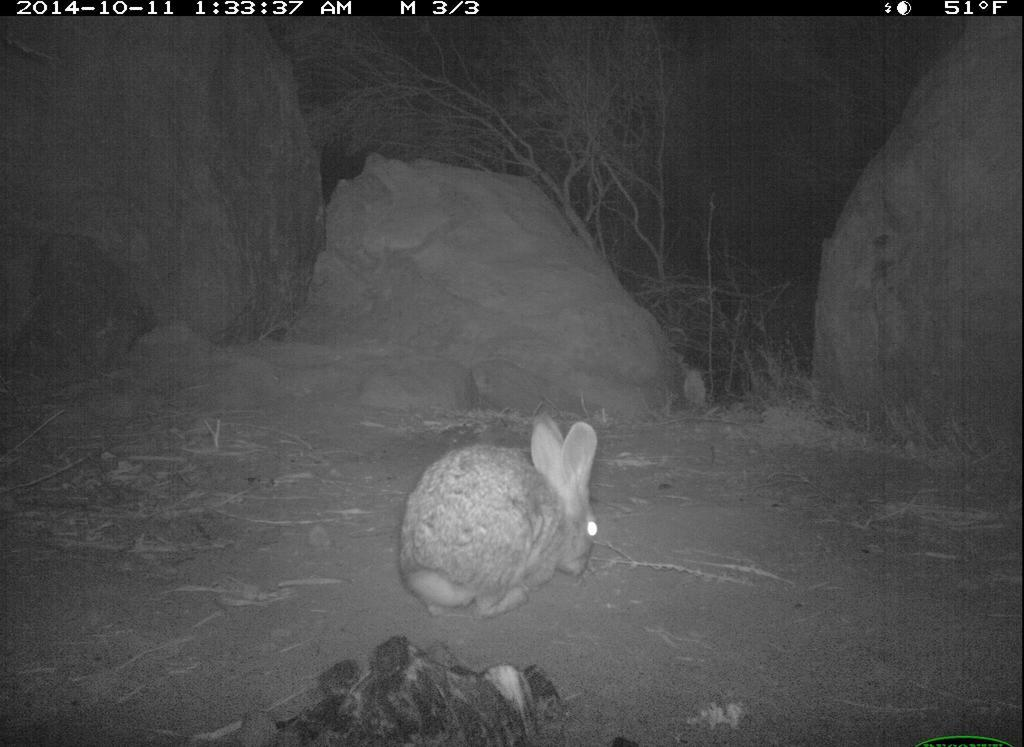rabbit: (395, 408, 609, 626)
